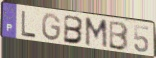5: (133, 24, 150, 54)
B: (62, 14, 85, 45), (108, 20, 130, 52)
G: (41, 12, 62, 43)
L: (21, 10, 38, 39)
M: (84, 17, 109, 50)
